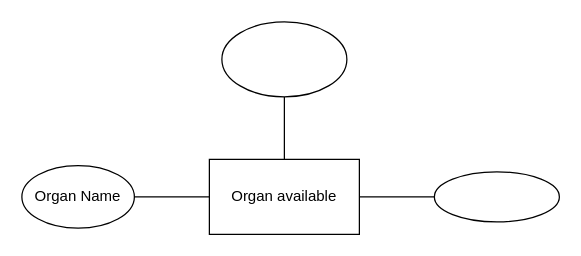
This 581x256 diagram has some shape labels left out. Each missing label, with the centre of its shape:
"Donor ID" goes at point (496, 196).
"Organ ID" goes at point (284, 59).
